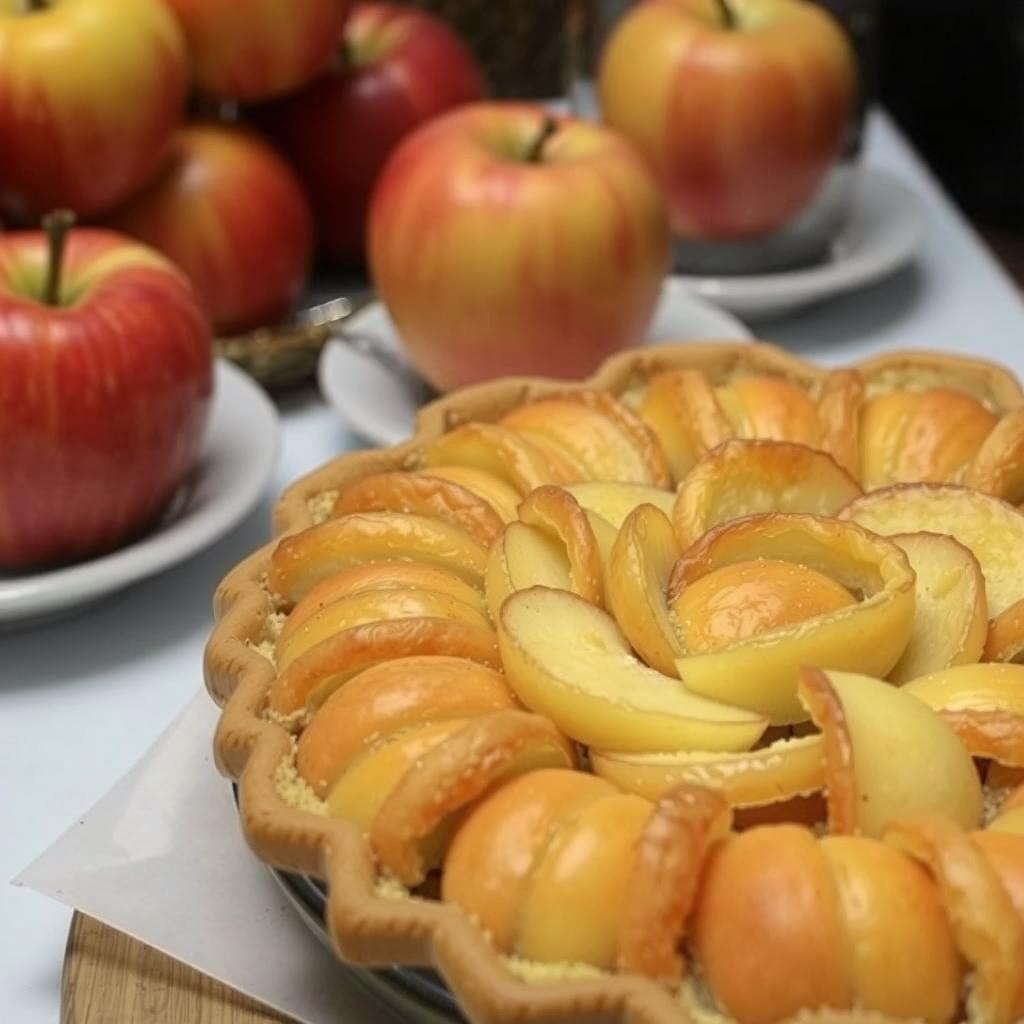pie: (191, 320, 1024, 1024)
